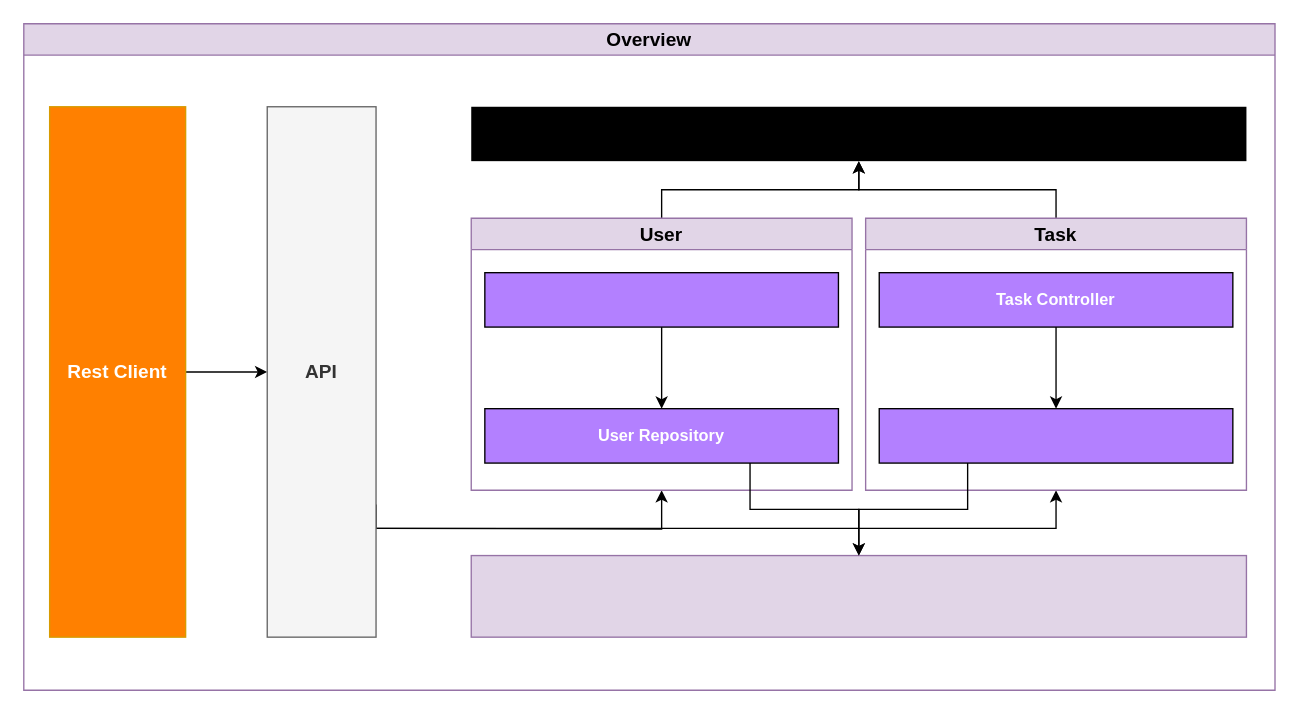
The diagram is 1299 pixels wide and 714 high, and some of its shapes have lost their labels. Each missing label, with the centre of its shape:
Filter: the point at 858,133
H2: the point at 858,595
Task Repository: the point at 1055,435
User Controller: the point at 660,299
